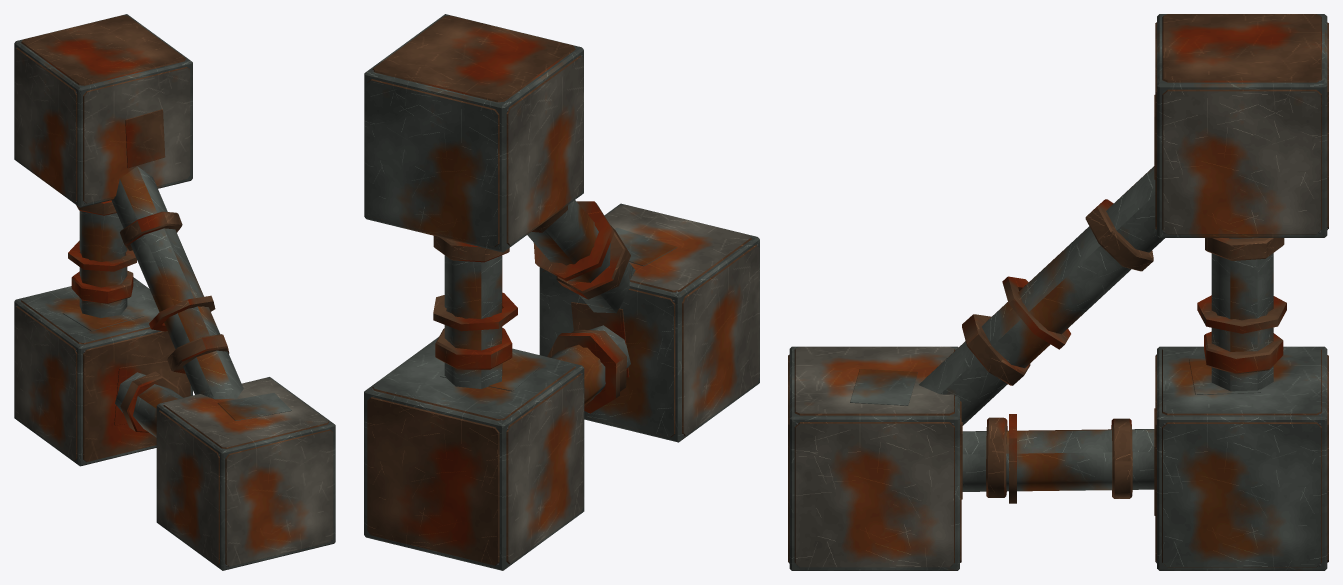
The model's file is R4C_STRUT_RAMP.glb.
The picture shows the model from 3 angles, left to right: view 1: azimuth 30°, elevation 25°; view 2: azimuth 150°, elevation 25°; view 3: azimuth 270°, elevation 25°; orthographic projection. The views are drawn at different scales.
Parts seen in each view (by area): view 1: R4C_STRUT_RAMP; view 2: R4C_STRUT_RAMP; view 3: R4C_STRUT_RAMP.
Boxes of the visible parts, x1,y1,x2,y2 form: R4C_STRUT_RAMP: [14, 14, 335, 570]; R4C_STRUT_RAMP: [364, 14, 759, 570]; R4C_STRUT_RAMP: [788, 14, 1328, 570].
Bounding box in the file's own units: 0.52 × 1.62 × 1.62.
Materials: 4 (4 with a texture image).
